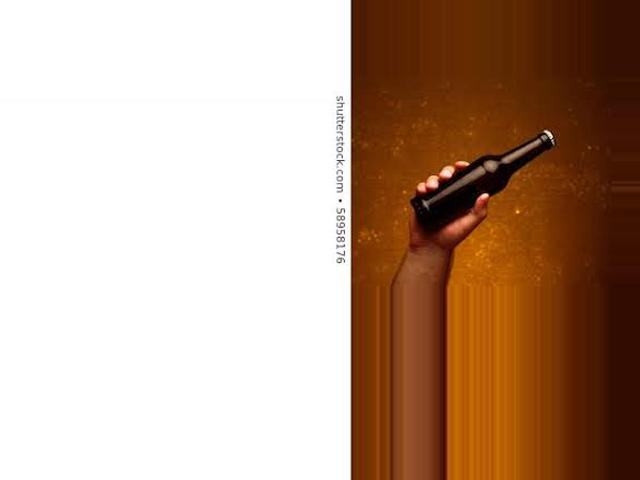beer: (410, 128, 556, 236)
